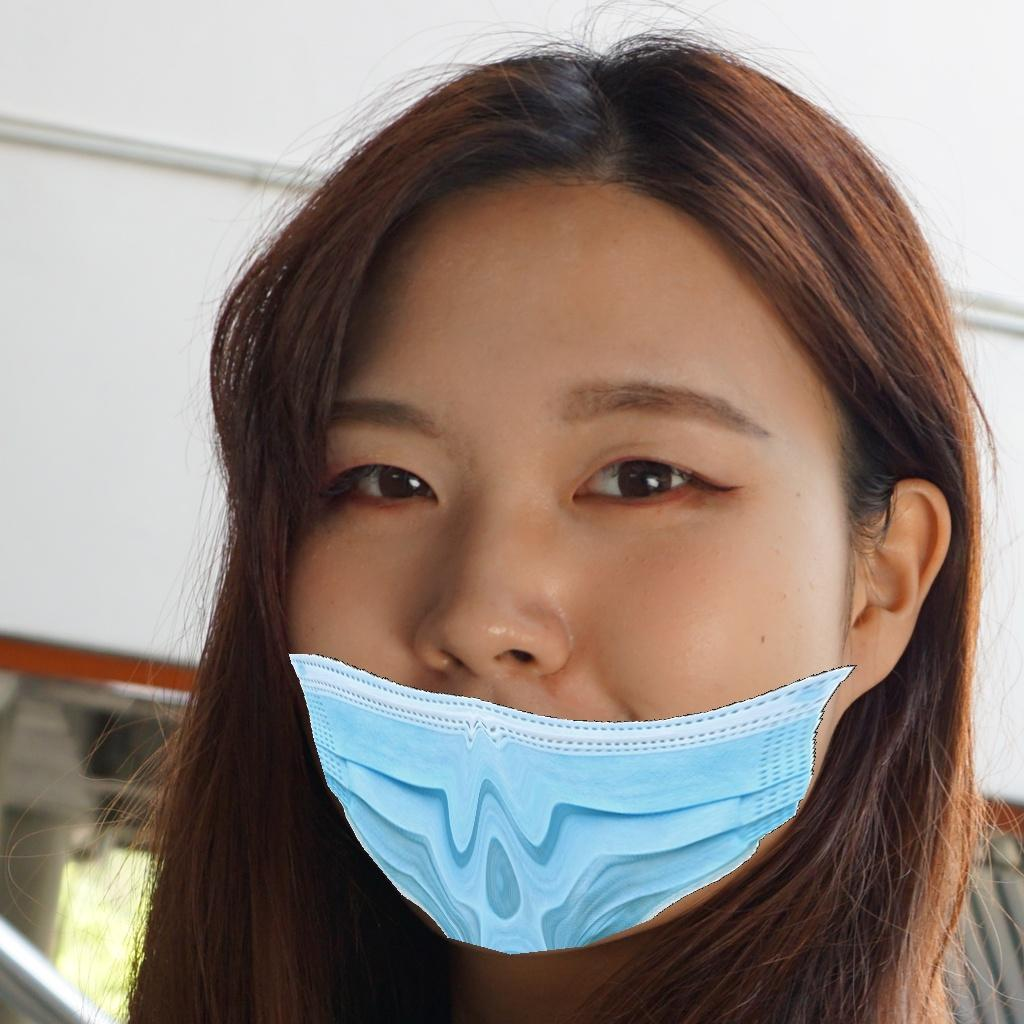Máscara Incorreta: (295, 199, 829, 937)
